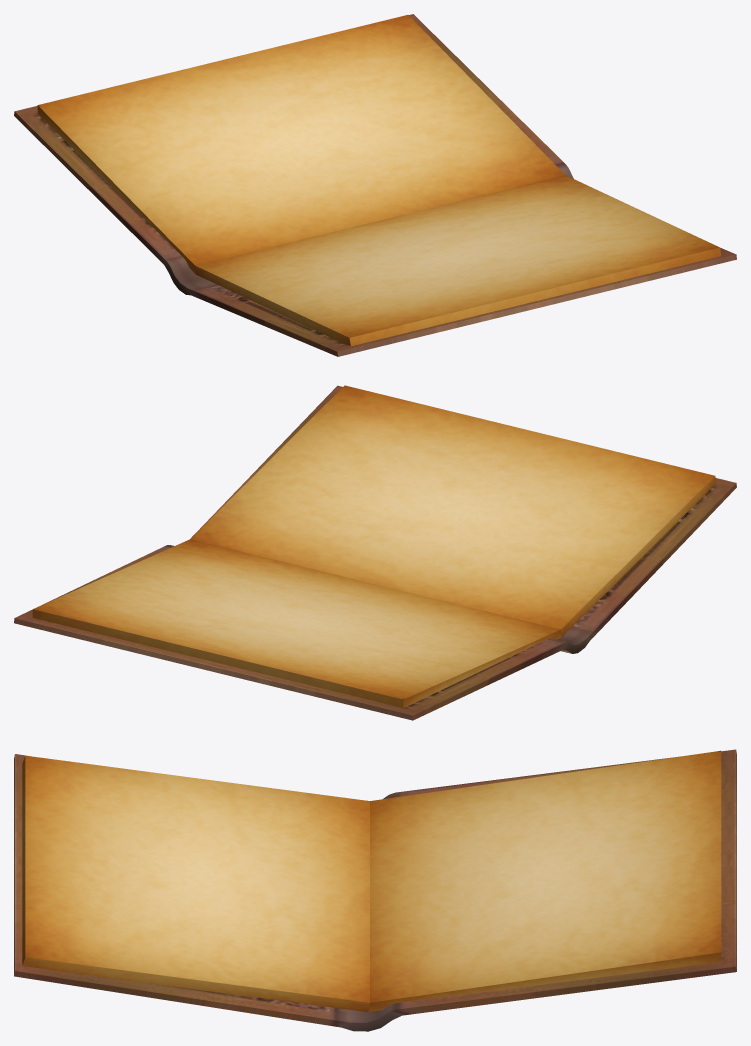
File: open book.fbx
3 renders of one model, top to bottom at view 1: azimuth 30°, elevation 25°; view 2: azimuth 150°, elevation 25°; view 3: azimuth 270°, elevation 25°, orthographic. The views are drawn at different scales.
Parts seen in each view (by area): view 1: polySurface617; view 2: polySurface617; view 3: polySurface617.
Boxes of the visible parts, x1,y1,x2,y2 form: polySurface617: (14,14,736,356); polySurface617: (14,385,736,720); polySurface617: (14,749,736,1031).
Bounding box in the file's own units: 25.61 × 4 × 36.03.
1 material, 1 textured.
